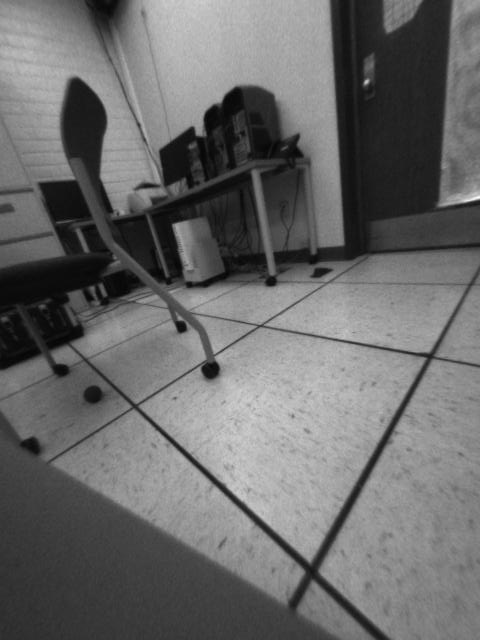dogtoy: (77, 379, 111, 408)
